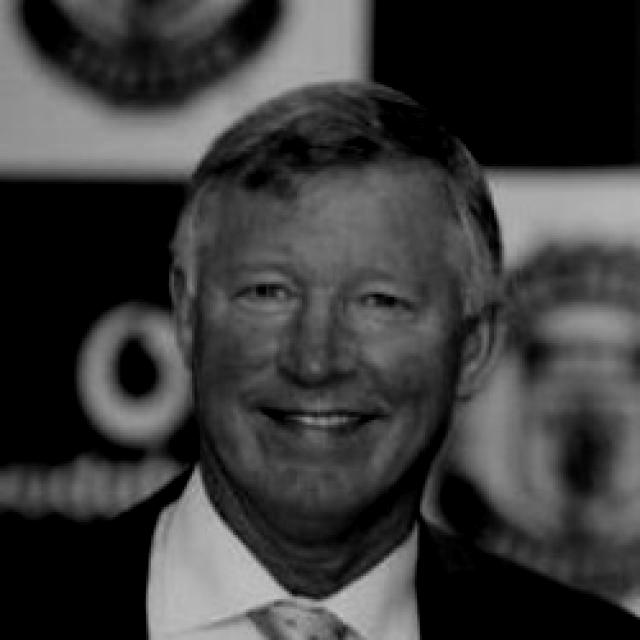real: (194, 171, 458, 530), (224, 255, 426, 324)
